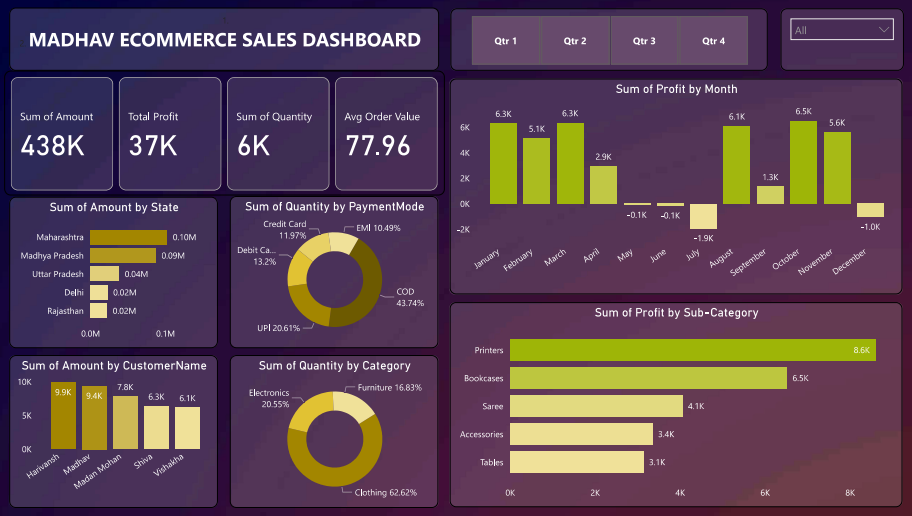

Layout of this report page (visuals, bound fields, positions):
{"tool":"powerbi","page":{"name":"Page 1","canvas":[1280,720],"ordinal":0},"visuals":[{"type":"barChart","fields":{"Category":["Orders.State"],"Y":["Details.Amount"]},"box":[17.1,274,291.1,211.2],"z":0},{"type":"columnChart","fields":{"Category":["Orders.CustomerName"],"Y":["Details.Amount"]},"box":[17.1,495.2,291.1,212.6],"z":1000},{"type":"donutChart","fields":{"Y":["Details.Quantity"],"Category":["Details.Category"]},"box":[325.4,495.2,291.1,212.6],"z":2000},{"type":"donutChart","fields":{"Y":["Details.Quantity"],"Category":["Details.PaymentMode"]},"box":[325.4,272.6,291.1,212.6],"z":3000},{"type":"clusteredColumnChart","fields":{"Y":["Details.Profit"],"Category":["Orders.Order Date.Variation.Date Hierarchy.Month"]},"box":[632.1,109.1,632.1,300.5],"z":4000},{"type":"textbox","box":[17,9.9,599.5,87.9],"z":5000},{"type":"barChart","fields":{"Category":["Details.Sub-Category"],"Y":["Details.Profit"]},"box":[632.1,420.9,632.1,286.3],"z":6000},{"type":"cardVisual","fields":{"Data":["KPI.sum of amount","KPI.Total Profit","KPI.Sum of Quantity","KPI.Avg Order Value"]},"box":[9.9,97.8,615.1,174.3],"z":7000},{"type":"slicer","fields":{"Values":["Orders.Order Date.Variation.Date Hierarchy.Quarter"]},"box":[632.8,10.7,443.4,87.6],"z":8000},{"type":"slicer","fields":{"Values":["Orders.State"]},"box":[1094.1,10.7,171.6,87.6],"z":9000}]}

Visuals, with their boxes in screenshot pixels (x1, y1, x2, y2), scaled from the page's 1280x720 canvas onto the 912x516 screenshot:
barChart - Orders.State x Details.Amount: rect(12, 196, 220, 348)
columnChart - Orders.CustomerName x Details.Amount: rect(12, 355, 220, 507)
donutChart - Details.Quantity x Details.Category: rect(232, 355, 439, 507)
donutChart - Details.Quantity x Details.PaymentMode: rect(232, 195, 439, 348)
clusteredColumnChart - Details.Profit x Orders.Order Date.Variation.Date Hierarchy.Month: rect(450, 78, 901, 294)
textbox: rect(12, 7, 439, 70)
barChart - Details.Sub-Category x Details.Profit: rect(450, 302, 901, 507)
cardVisual - KPI.sum of amount x KPI.Total Profit: rect(7, 70, 445, 195)
slicer - Orders.Order Date.Variation.Date Hierarchy.Quarter: rect(451, 8, 767, 70)
slicer - Orders.State: rect(780, 8, 902, 70)
